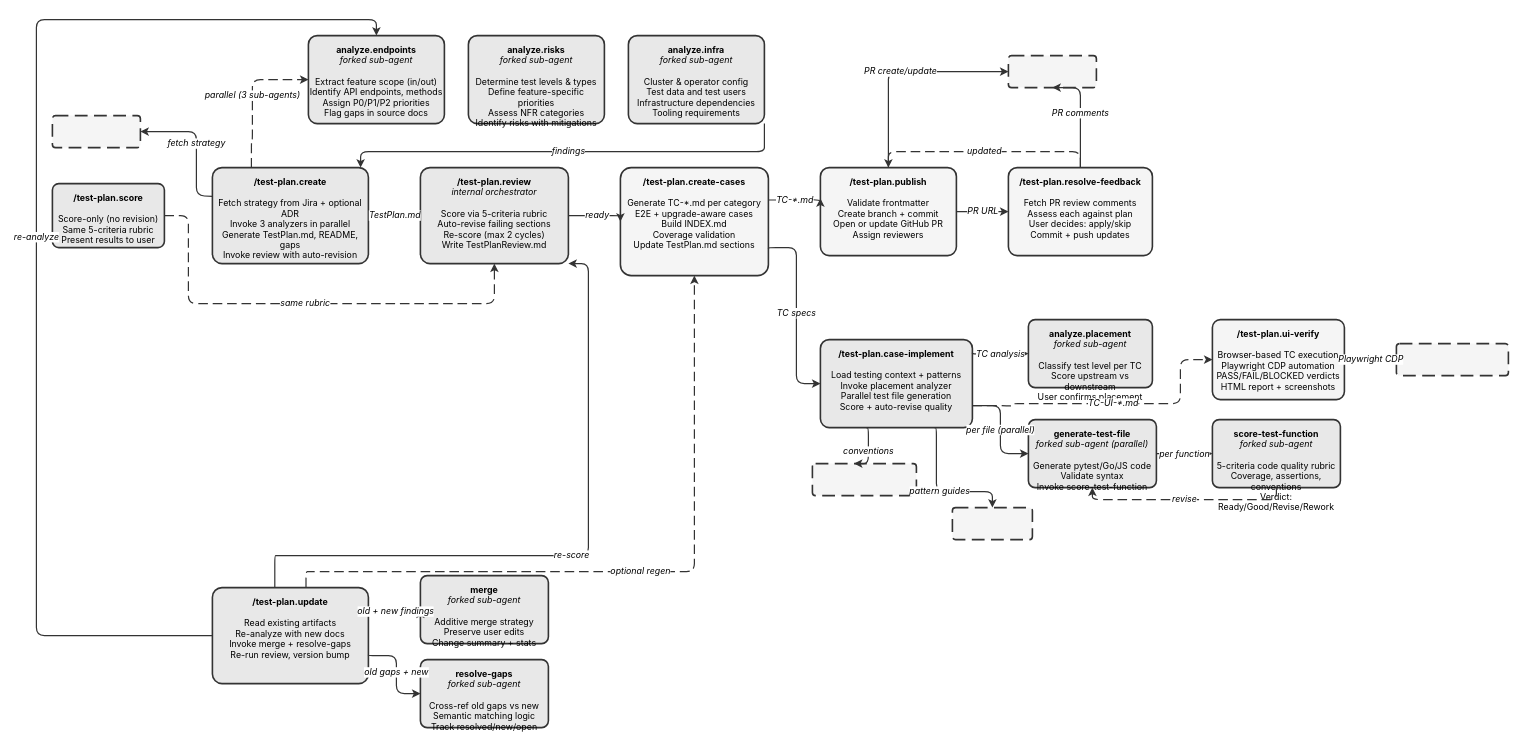
Some shapes in this 1523 by 746 pixel diagram are drawn without their labels. The shapes that lost their labels are listed below. From the top down, each one's centre as x and y in pixels, then its label:
At (1052,71): "GitHub".
At (96,131): "Jira (MCP)".
At (1452,359): "ODH/RHOAI Cluster".
At (864,479): "odh-test-context".
At (992,523): "Tiger Team".
